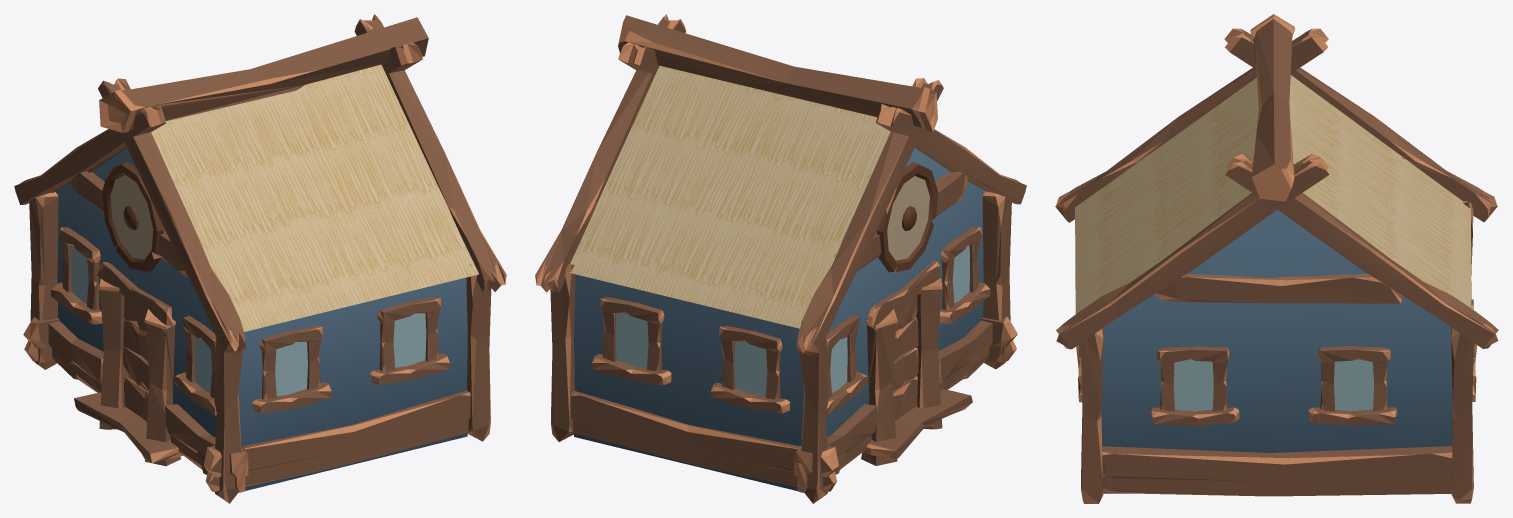
File: House.001.fbx
3 views of the same model, side by side, from view 1: azimuth 30°, elevation 25°; view 2: azimuth 150°, elevation 25°; view 3: azimuth 270°, elevation 25° (orthographic).
Visible parts, largest first — view 1: House.001; view 2: House.001; view 3: House.001.
Boxes of the visible parts, x1=… form: House.001: x1=14, y1=14, x2=506, y2=503; House.001: x1=535, y1=14, x2=1026, y2=503; House.001: x1=1055, y1=14, x2=1498, y2=503.
Bounding box in the file's own units: 234 × 257 × 284.
